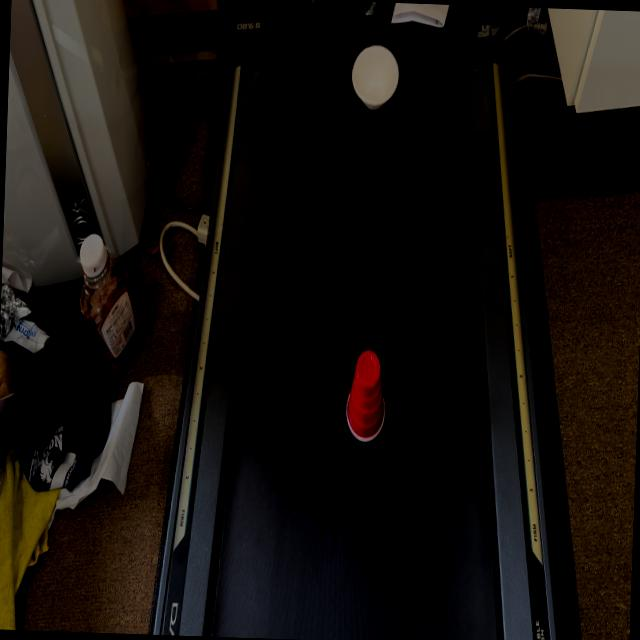Trash: (346, 333, 398, 436), (353, 40, 408, 114)
